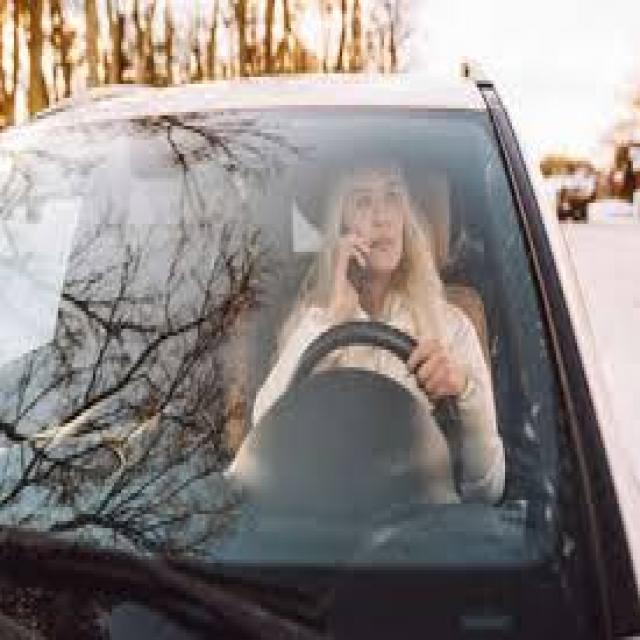using_phone: (304, 189, 399, 326)
